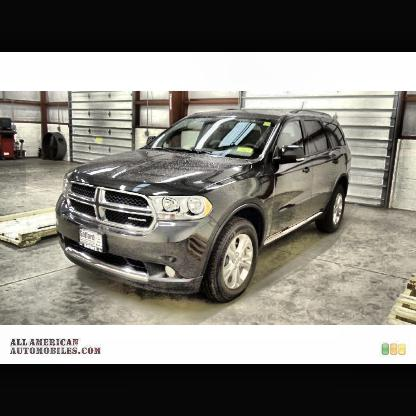Dodge Durango SUV 2012: (55, 102, 353, 304)
